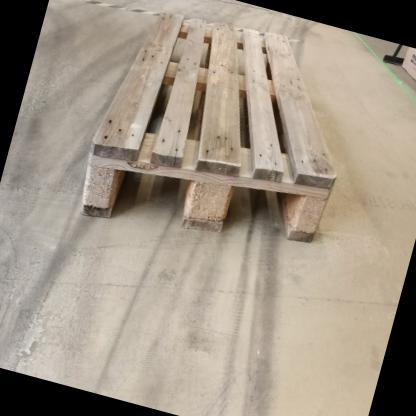BoxFace: (77, 5, 340, 249)
